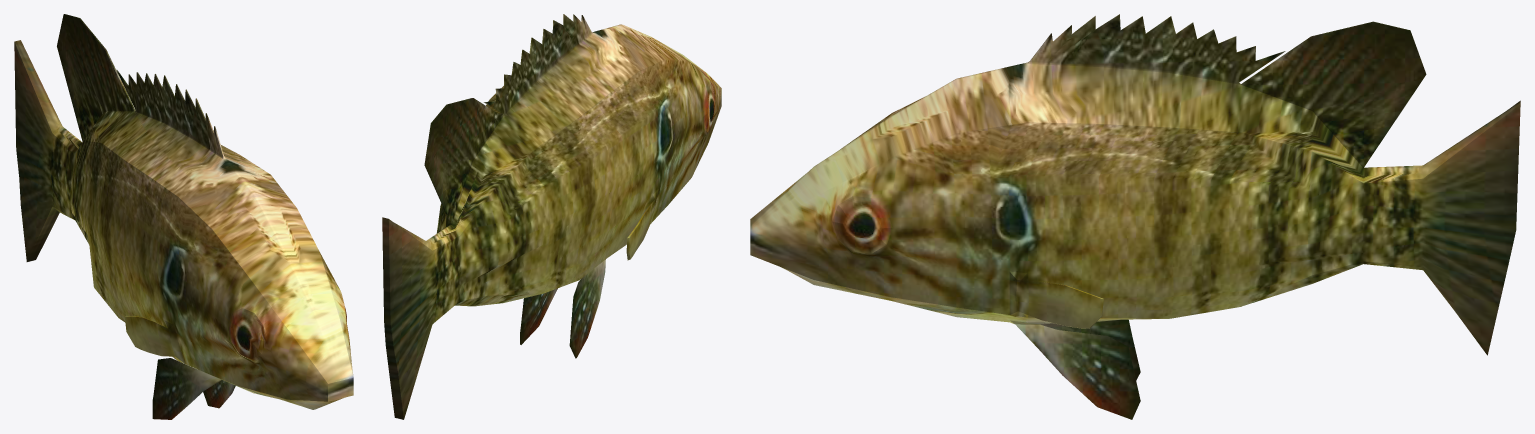
File: oyanirami_model.fbx
The picture shows the model from 3 angles, left to right: view 1: azimuth 30°, elevation 25°; view 2: azimuth 150°, elevation 25°; view 3: azimuth 270°, elevation 25°; orthographic projection. The views are drawn at different scales.
Parts seen in each view (by area): view 1: pCube1; view 2: pCube1; view 3: pCube1.
Part boxes in pixels (<box>): pCube1: <box>14,14,353,419</box>; pCube1: <box>382,14,721,419</box>; pCube1: <box>750,14,1520,419</box>.
Bounding box in the file's own units: 1.51 × 3.43 × 6.14.
